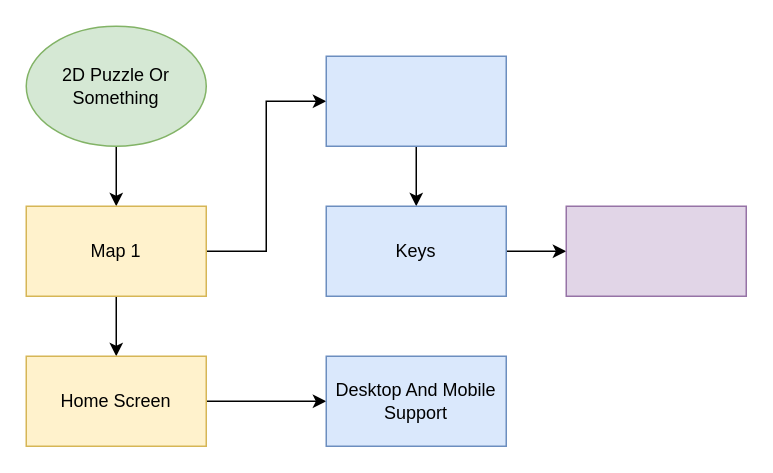
Some shapes in this 773 by 473 pixel diagram are drawn without their labels. The centre of each missing label's shape, as x and y in pixels:
"Open Gate Thing" goes at (x=655, y=250).
"Walls" goes at (x=415, y=100).
